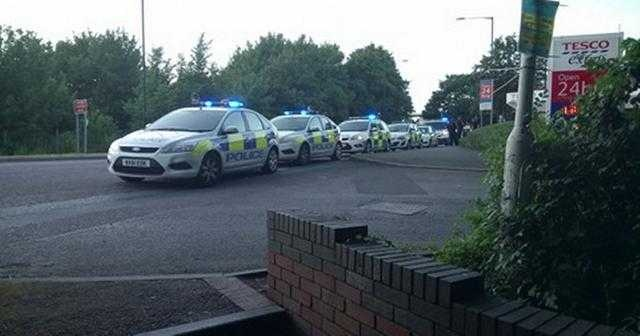Police Car: (101, 94, 318, 198), (271, 108, 350, 167), (332, 116, 393, 154), (387, 114, 422, 148), (400, 125, 436, 140)
